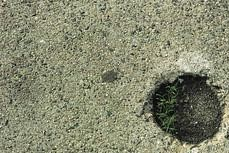Spalling: (151, 73, 223, 145)
